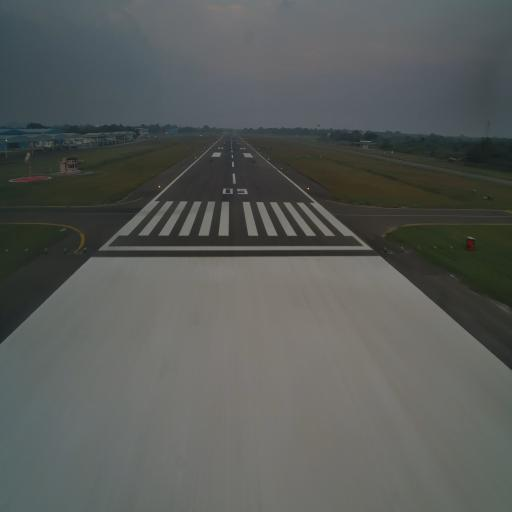on: (4, 247, 9, 254), (434, 244, 438, 252), (400, 244, 404, 251), (24, 246, 28, 252), (44, 246, 48, 252), (83, 245, 87, 251), (417, 245, 421, 251), (64, 246, 67, 253), (383, 245, 386, 252), (449, 244, 453, 249)
